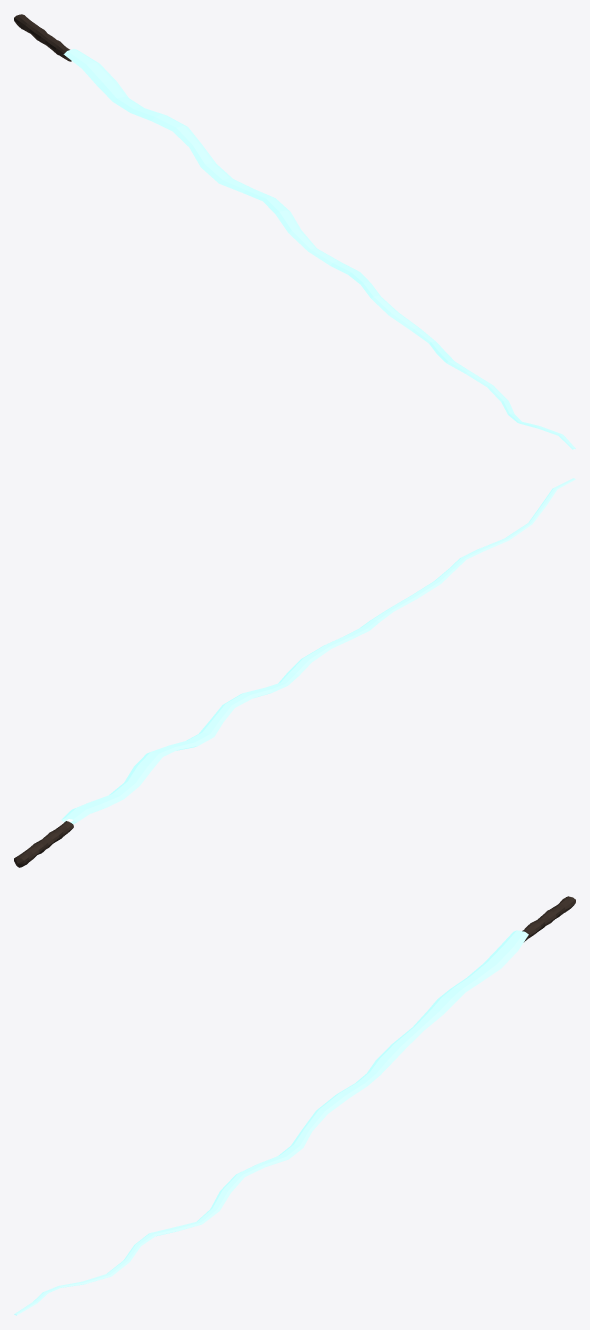
Rendered from arc_whip_lightning_whip.glb.
The picture shows the model from 3 angles, top to bottom: view 1: azimuth 30°, elevation 25°; view 2: azimuth 150°, elevation 25°; view 3: azimuth 330°, elevation 25°; orthographic projection. The views are drawn at different scales.
Parts seen in each view (by area): view 1: lightning_body, handle; view 2: lightning_body, handle; view 3: lightning_body, handle.
Boxes of the visible parts, x1=… form: lightning_body: x1=63, y1=49, x2=575, y2=449; handle: x1=14, y1=14, x2=71, y2=61; lightning_body: x1=61, y1=478, x2=575, y2=823; handle: x1=14, y1=821, x2=73, y2=867; lightning_body: x1=14, y1=930, x2=528, y2=1315; handle: x1=522, y1=896, x2=575, y2=941.
Size of the model in its own units: 0.1378 by 0.1432 by 3.31.
